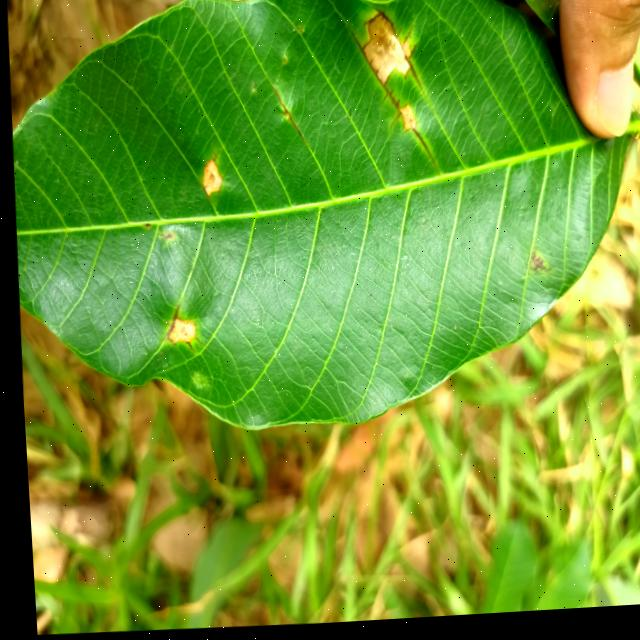Corynespora: (344, 28, 432, 167), (269, 88, 302, 146), (361, 10, 394, 41), (401, 47, 420, 92), (159, 307, 178, 346)
Leaf-Blight: (360, 19, 410, 90), (198, 162, 220, 199), (162, 319, 191, 345), (398, 109, 412, 135)
